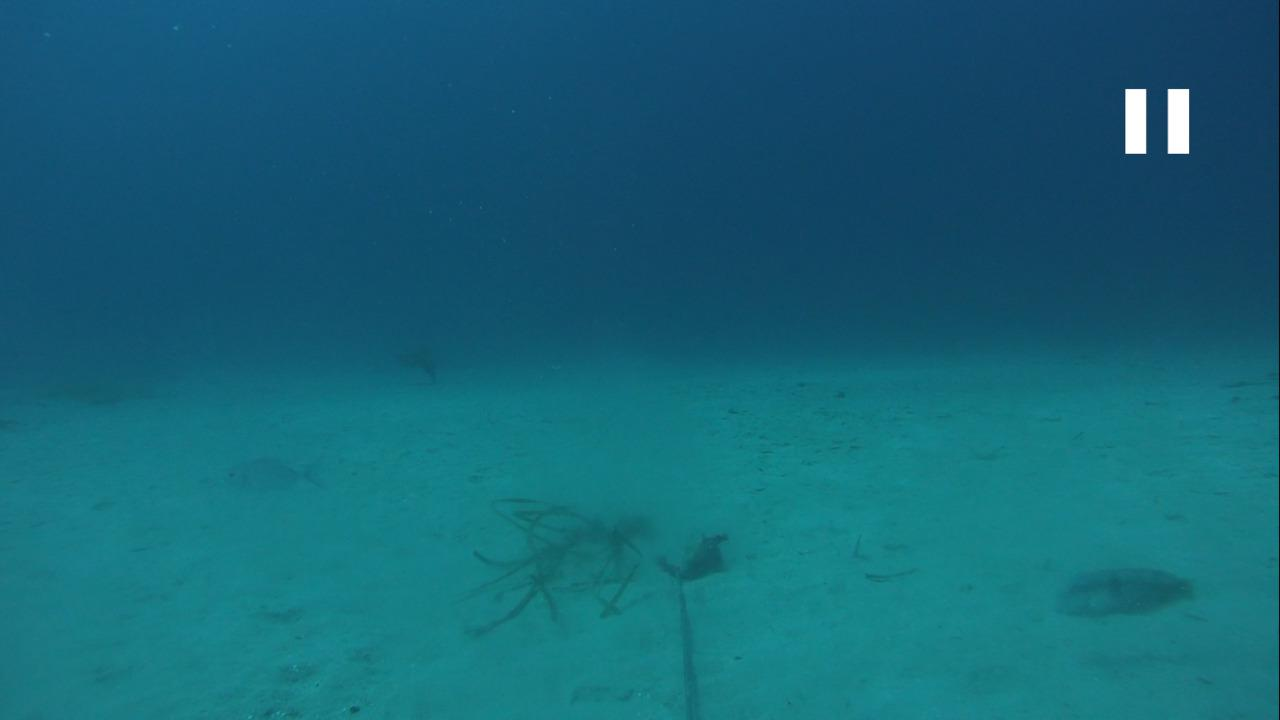raor: (1040, 558, 1209, 621)
